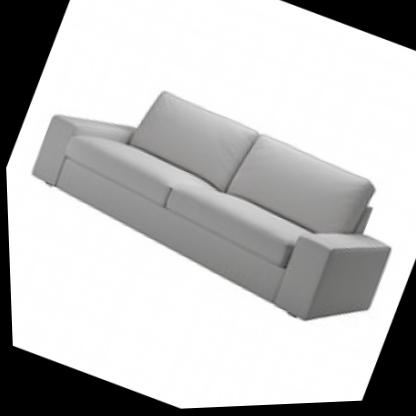Sofa: (1, 31, 416, 359)
